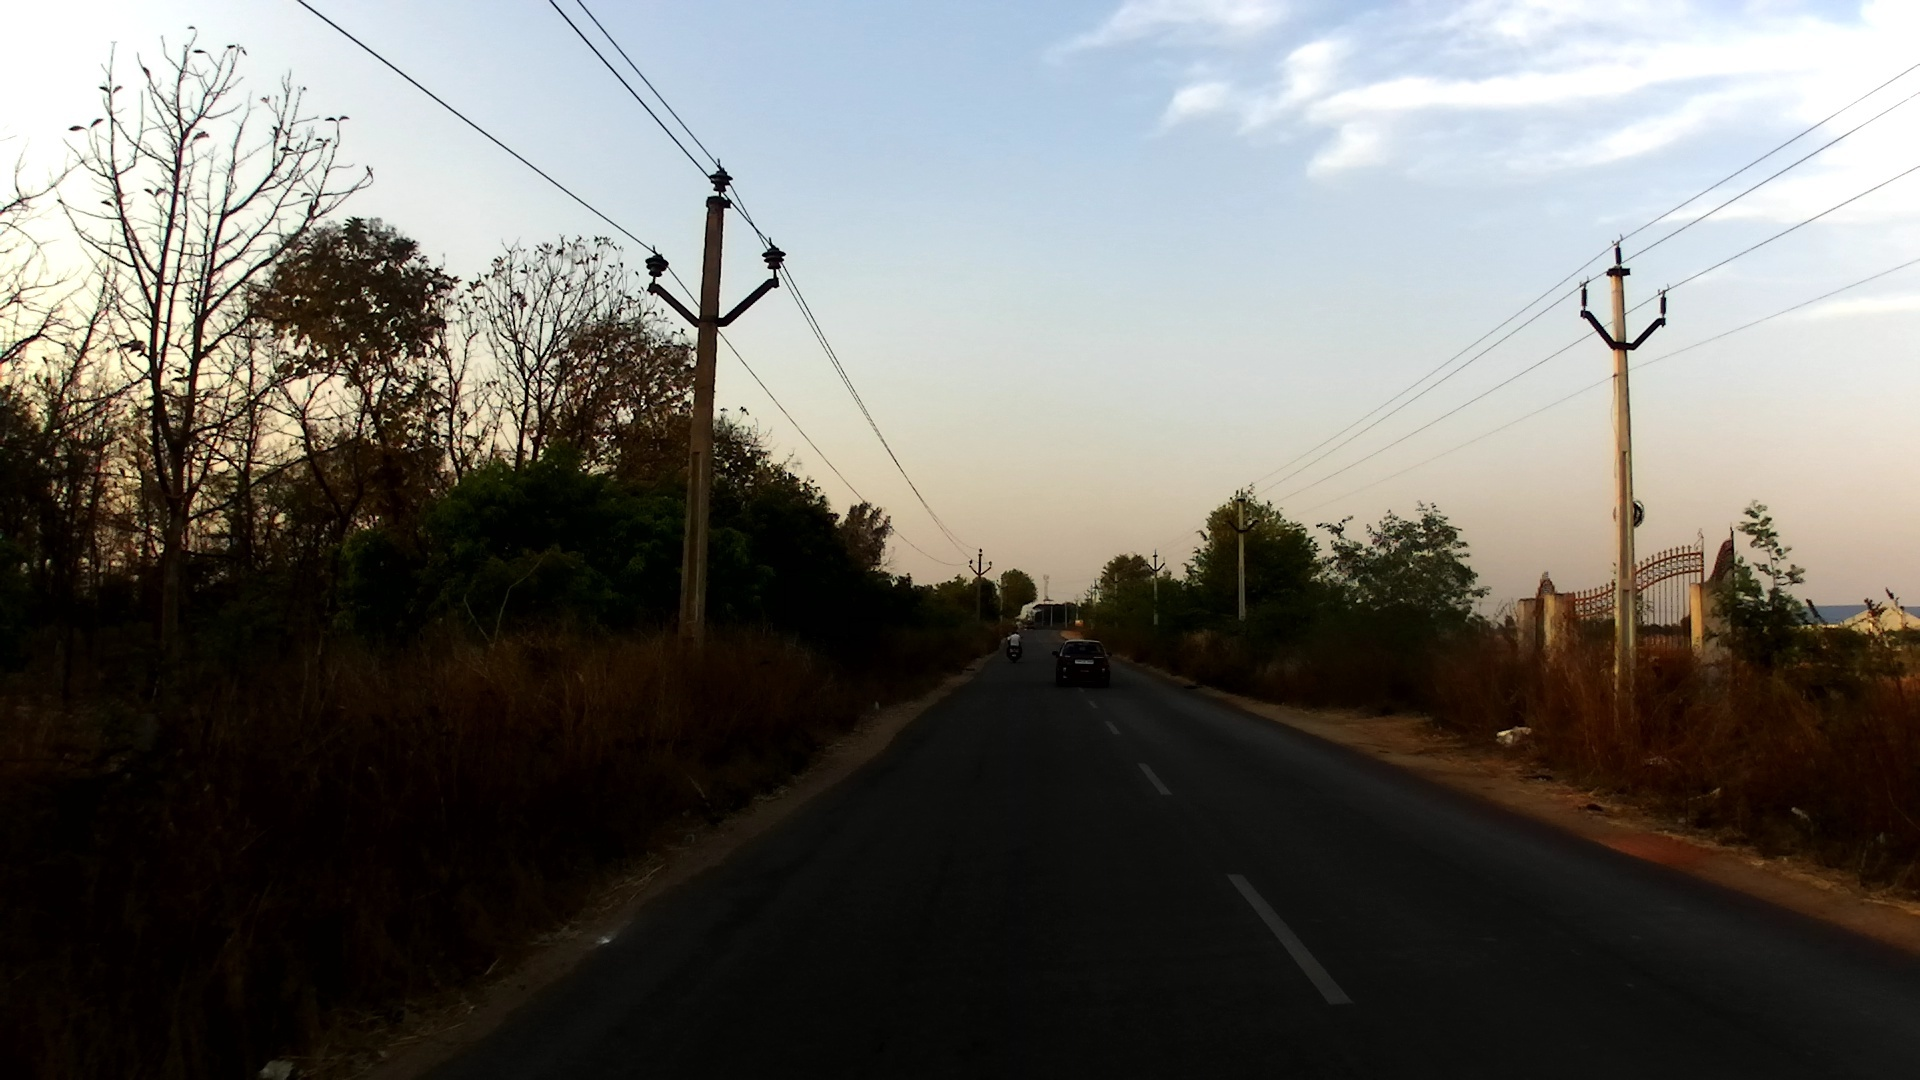car: (1048, 639, 1111, 691)
motorcycle: (1005, 640, 1023, 660)
rider: (1004, 627, 1023, 654)
